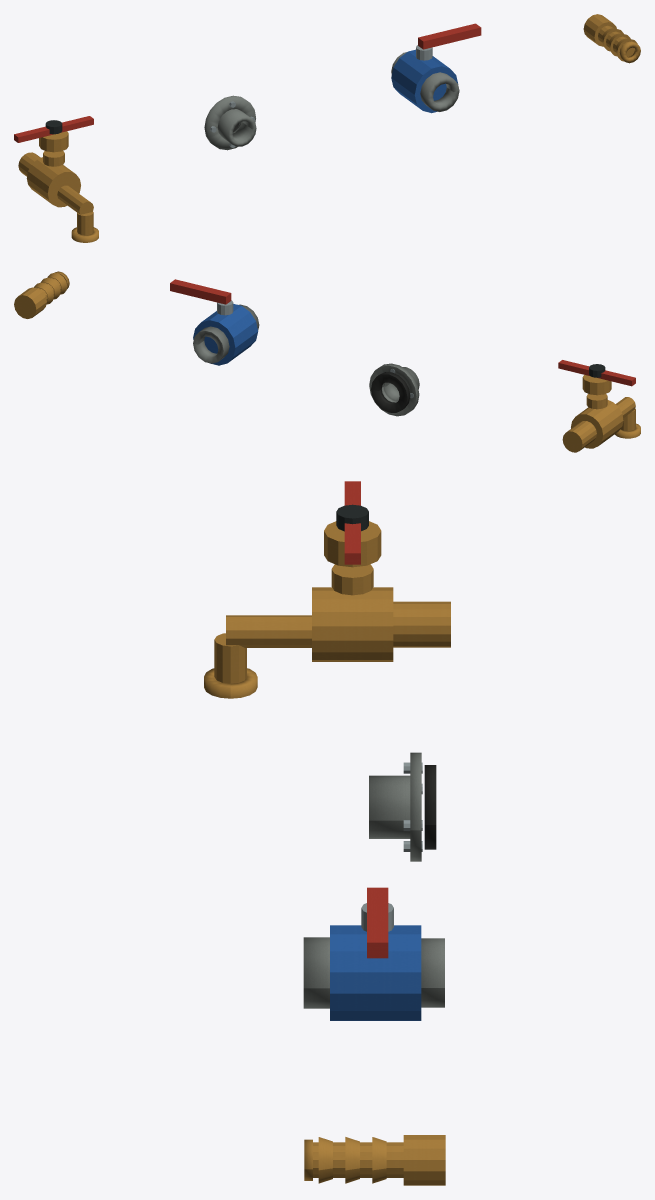
File: PZ_Taps_And_Connector_Ports.glb
The picture shows the model from 3 angles, top to bottom: view 1: azimuth 30°, elevation 25°; view 2: azimuth 150°, elevation 25°; view 3: azimuth 270°, elevation 25°; orthographic projection. The views are drawn at different scales.
Visible parts, largest first — view 1: FITTING_BallValve_MainBody, FITTING_Tap_ValveChamber, FITTING_Bulkhead32_Flange, FITTING_Bulkhead32_FemaleSocket, FITTING_BallValve_Outlet, FITTING_BallValve_RedLever, FITTING_Tap_SpoutNeck, FITTING_HoseBarb_ThreadBase, FITTING_Tap_WheelHub, FITTING_Tap_SpoutElbow, FITTING_Tap_HandleLeft, FITTING_HoseBarb_Shaft; view 2: FITTING_BallValve_MainBody, FITTING_Tap_ValveChamber, FITTING_Bulkhead32_RubberSeal, FITTING_Bulkhead32_Flange, FITTING_BallValve_Inlet, FITTING_BallValve_RedLever, FITTING_HoseBarb_ThreadBase, FITTING_Tap_ThreadedInlet, FITTING_Tap_WheelHub, FITTING_Tap_HandleLeft, FITTING_Tap_HandleRight, FITTING_Tap_StemNut (+1 smaller); view 3: FITTING_BallValve_MainBody, FITTING_Tap_ValveChamber, FITTING_Tap_SpoutNeck, FITTING_Tap_ThreadedInlet, FITTING_Bulkhead32_FemaleSocket, FITTING_HoseBarb_ThreadBase, FITTING_BallValve_Outlet, FITTING_HoseBarb_Shaft, FITTING_BallValve_Inlet, FITTING_Tap_WheelHub, FITTING_BallValve_RedLever, FITTING_Tap_SpoutElbow (+4 smaller).
Part boxes in pixels (x1,y1,x2,y2): FITTING_BallValve_MainBody: (391, 49, 458, 113); FITTING_Tap_ValveChamber: (26, 157, 80, 207); FITTING_Bulkhead32_Flange: (204, 95, 255, 150); FITTING_Bulkhead32_FemaleSocket: (217, 109, 256, 146); FITTING_BallValve_Outlet: (420, 72, 459, 111); FITTING_BallValve_RedLever: (418, 23, 481, 49); FITTING_Tap_SpoutNeck: (57, 185, 93, 214); FITTING_HoseBarb_ThreadBase: (583, 14, 616, 46); FITTING_Tap_WheelHub: (39, 131, 68, 152); FITTING_Tap_SpoutElbow: (77, 212, 93, 235); FITTING_Tap_HandleLeft: (14, 126, 52, 142); FITTING_HoseBarb_Shaft: (598, 25, 634, 56); FITTING_BallValve_MainBody: (193, 304, 258, 365); FITTING_Tap_ValveChamber: (571, 400, 623, 448); FITTING_Bulkhead32_RubberSeal: (371, 372, 410, 412); FITTING_Bulkhead32_Flange: (369, 363, 419, 416); FITTING_BallValve_Inlet: (193, 326, 229, 363); FITTING_BallValve_RedLever: (170, 279, 231, 304); FITTING_HoseBarb_ThreadBase: (14, 287, 46, 318); FITTING_Tap_ThreadedInlet: (562, 421, 596, 452); FITTING_Tap_WheelHub: (582, 375, 611, 395); FITTING_Tap_HandleLeft: (598, 370, 635, 386); FITTING_Tap_HandleRight: (558, 360, 589, 375); FITTING_Tap_StemNut: (586, 394, 607, 409); FITTING_BallValve_MainBody: (330, 925, 421, 1020); FITTING_Tap_ValveChamber: (312, 587, 393, 661); FITTING_Tap_SpoutNeck: (226, 615, 311, 647); FITTING_Tap_ThreadedInlet: (393, 601, 450, 647); FITTING_Bulkhead32_FemaleSocket: (369, 775, 410, 838); FITTING_HoseBarb_ThreadBase: (403, 1135, 445, 1185); FITTING_BallValve_Outlet: (303, 937, 329, 1008); FITTING_HoseBarb_Shaft: (313, 1142, 403, 1177); FITTING_BallValve_Inlet: (421, 938, 444, 1007); FITTING_Tap_WheelHub: (324, 521, 381, 567); FITTING_BallValve_RedLever: (367, 887, 388, 958); FITTING_Tap_SpoutElbow: (214, 633, 246, 683).
Bounding box in the file's own units: 1.44 × 0.202 × 0.2575.
1 material, 1 textured.
